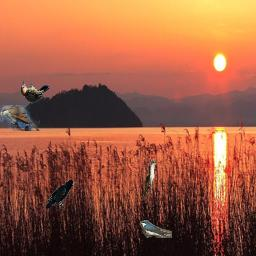Crow: (46, 180, 76, 210)
Cuckoo: (0, 105, 40, 131), (142, 160, 157, 200)
Swallow: (140, 220, 172, 238)
Woodpecker: (18, 78, 51, 103)
